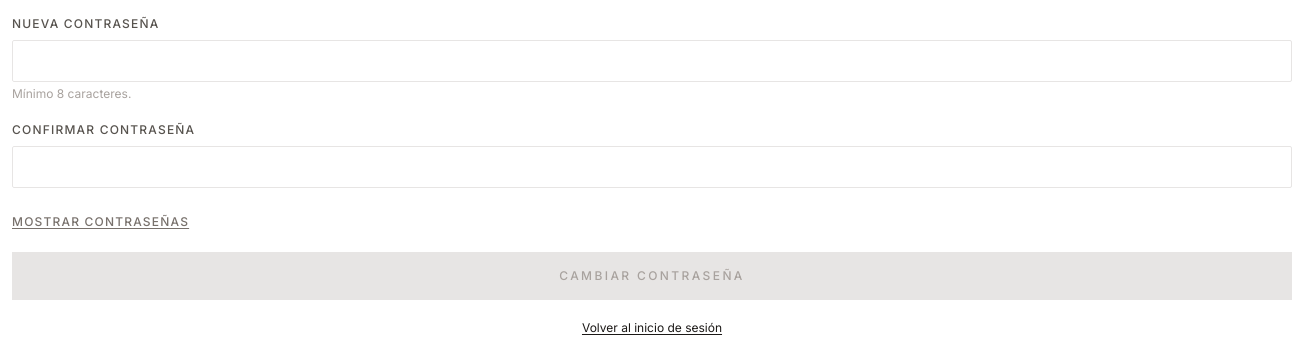
Test: ResetPasswordForm › hides both fields again on second toggle, still preserving values
The width and height of the screenshot is (1304, 352).
Type "newpassword123" into the password field labelled "Nueva contraseña" at [652, 61], box [12, 40, 1292, 82]
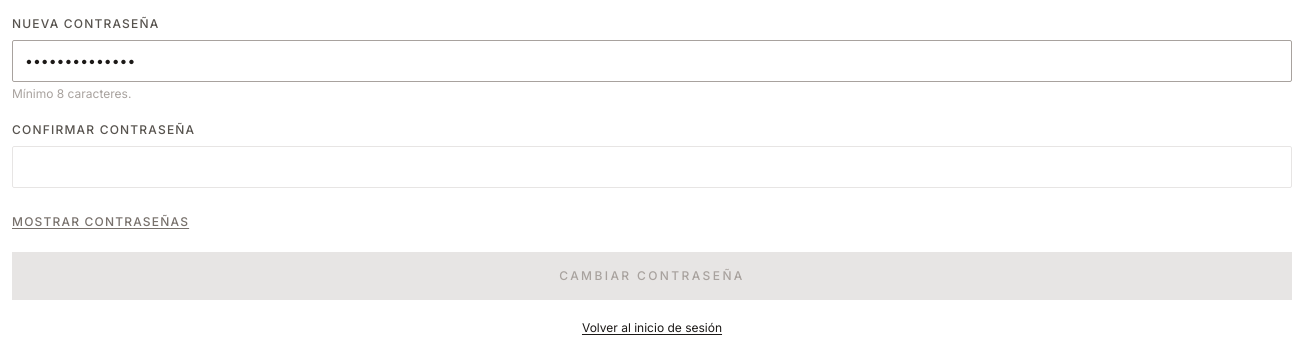
Type "newpassword123" into the password field labelled "Confirmar contraseña" at [652, 167], box [12, 146, 1292, 188]
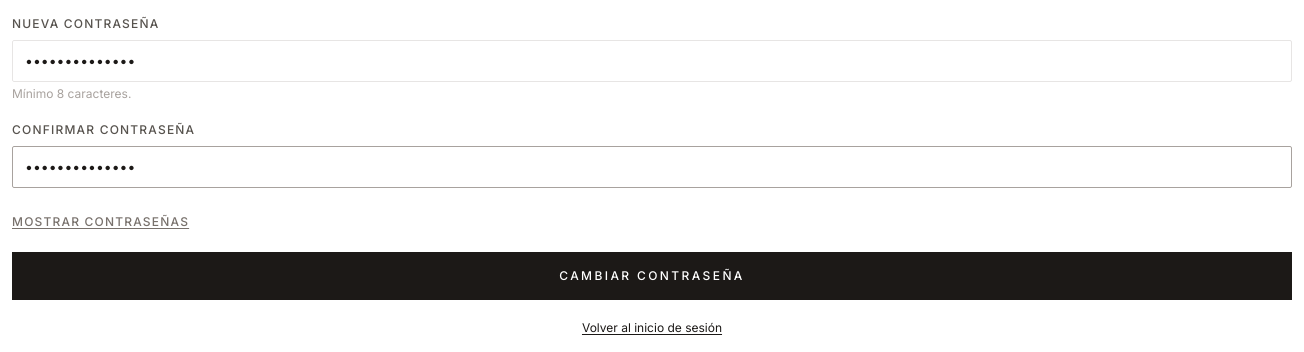
Click the button with aria-label "mostrar las contraseñas" at [101, 222], box [12, 214, 189, 230]
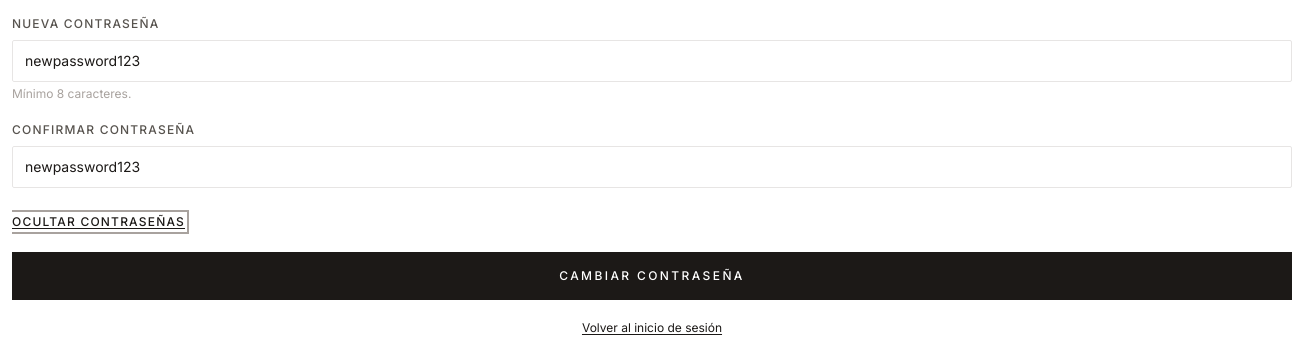
Click the button with aria-label "ocultar las contraseñas" at [98, 222], box [12, 214, 185, 230]
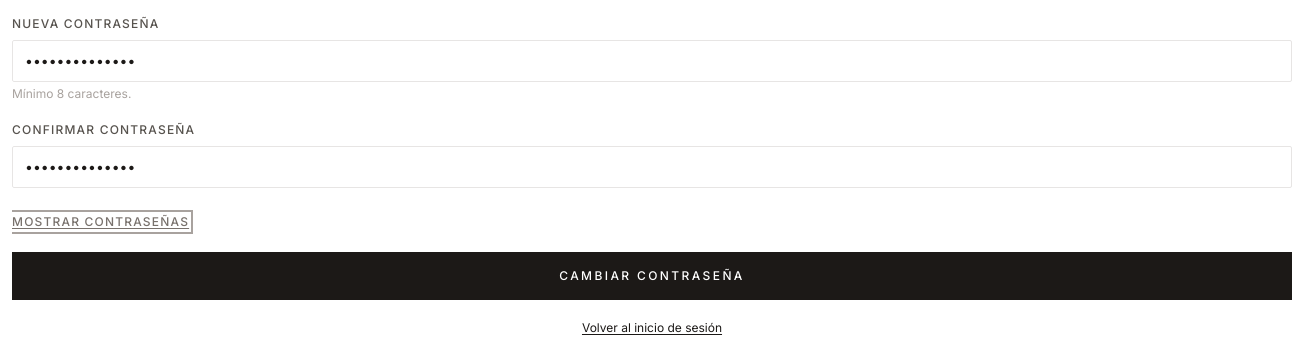
Check: the password field labelled "Nueva contraseña" hides its text, box [12, 40, 1292, 82]
Check: the password field labelled "Confirmar contraseña" hides its text, box [12, 146, 1292, 188]
Check: the button "Mostrar contraseñas" is shown, box [12, 214, 189, 230]
